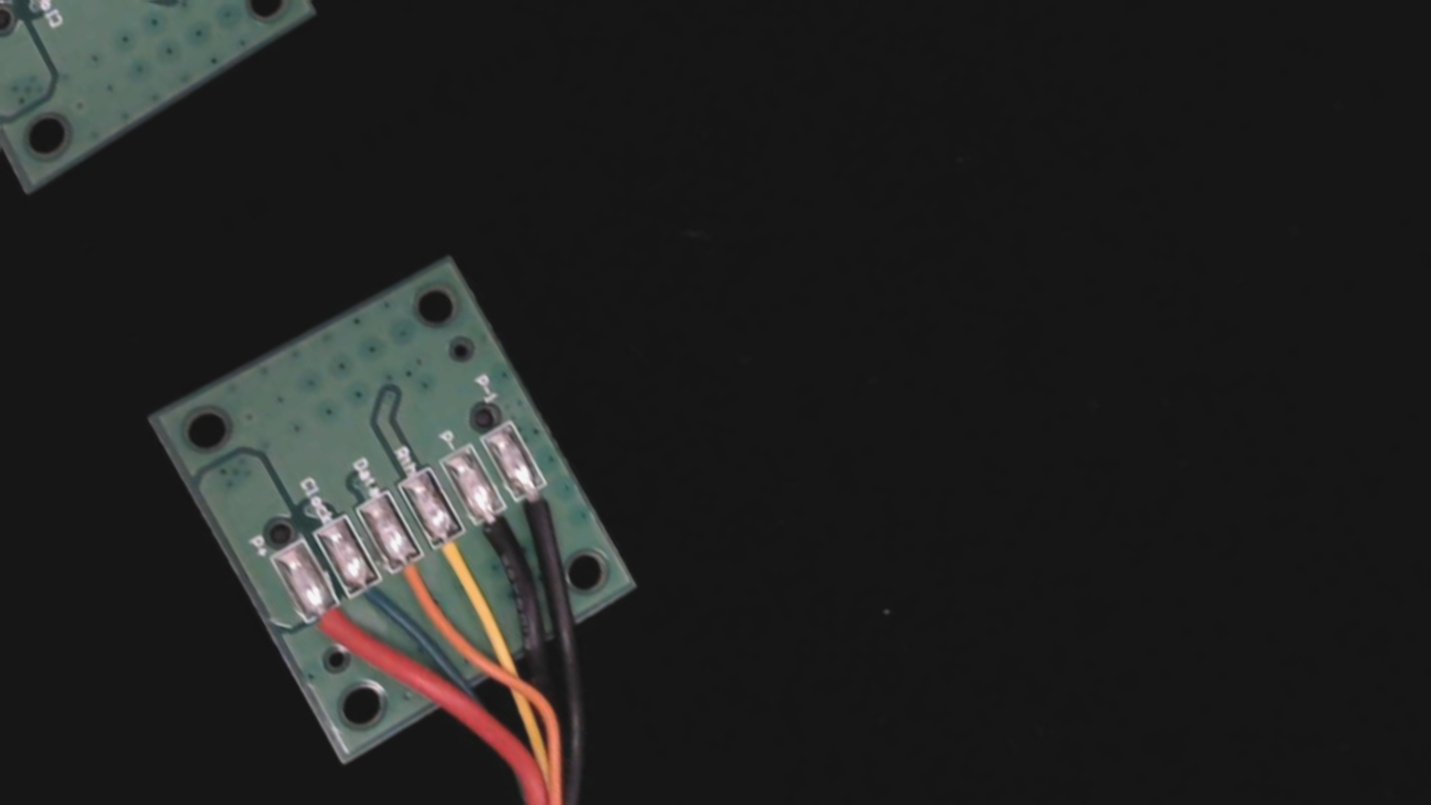Black: (454, 486, 541, 583)
Black1: (500, 463, 582, 553)
Green: (328, 557, 413, 650)
Orange: (374, 531, 458, 626)
Red: (286, 578, 370, 672)
Yellow: (412, 508, 500, 606)
